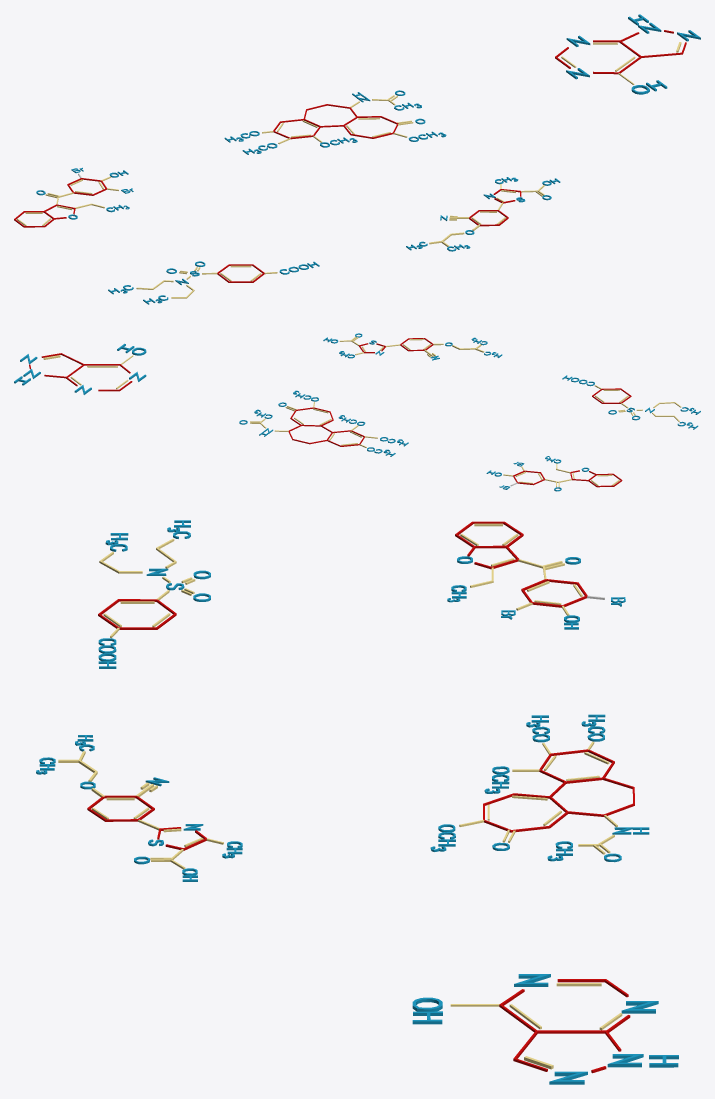
The model's file is 抗痛风药.FBX.
3 renders of one model, top to bottom at view 1: azimuth 30°, elevation 25°; view 2: azimuth 150°, elevation 25°; view 3: azimuth 270°, elevation 25°, orthographic. The views are drawn at different scales.
Bounding box in the file's own units: 190 × 0.4951 × 91.66.
